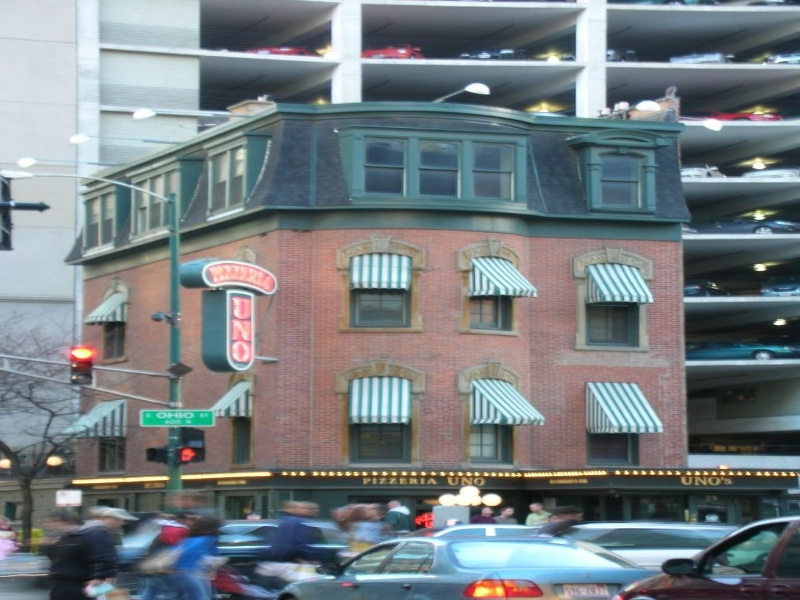red_light: (62, 334, 107, 396)
